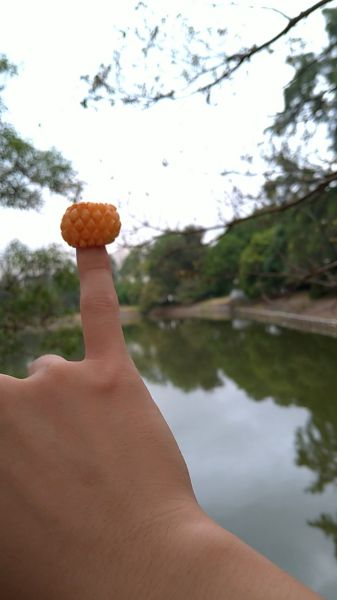eggs: (59, 200, 121, 247)
